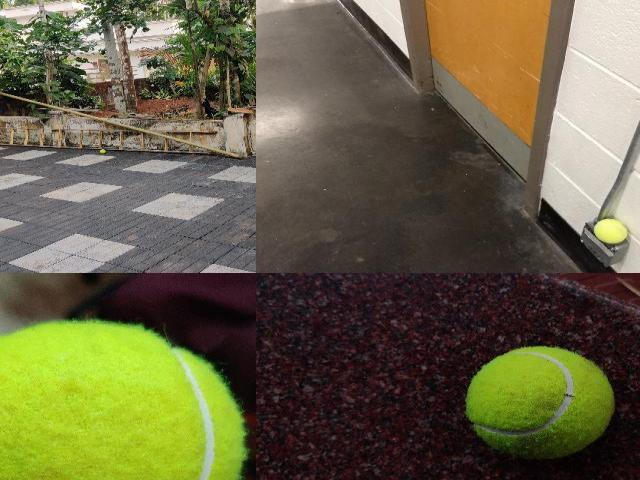tennis-ball: (0, 322, 243, 479), (466, 346, 614, 460), (592, 218, 628, 244), (99, 149, 105, 154)
